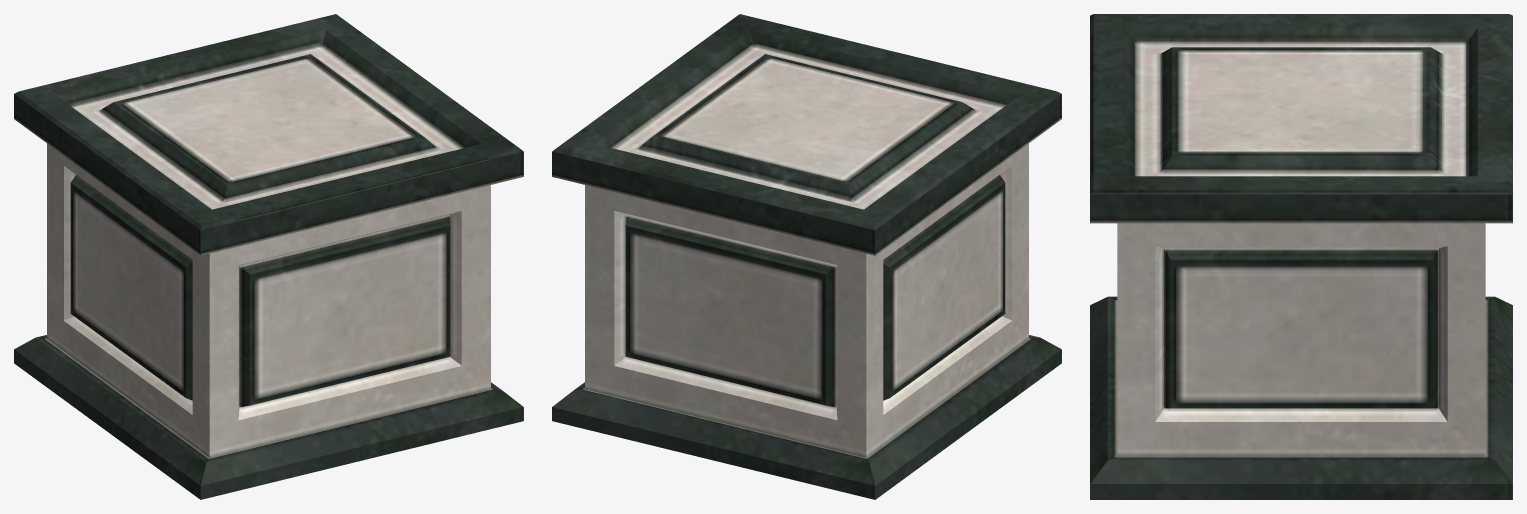
File: column-base-01.glb
The picture shows the model from 3 angles, left to right: view 1: azimuth 30°, elevation 25°; view 2: azimuth 150°, elevation 25°; view 3: azimuth 270°, elevation 25°; orthographic projection. The views are drawn at different scales.
Parts seen in each view (by area): view 1: Column_Base_01; view 2: Column_Base_01; view 3: Column_Base_01.
Part boxes in pixels (<box>): Column_Base_01: <box>14,14,523,499</box>; Column_Base_01: <box>552,14,1061,499</box>; Column_Base_01: <box>1090,14,1512,499</box>.
Size of the model in its own units: 1.8 by 1.45 by 1.8.
1 material, 1 textured.
